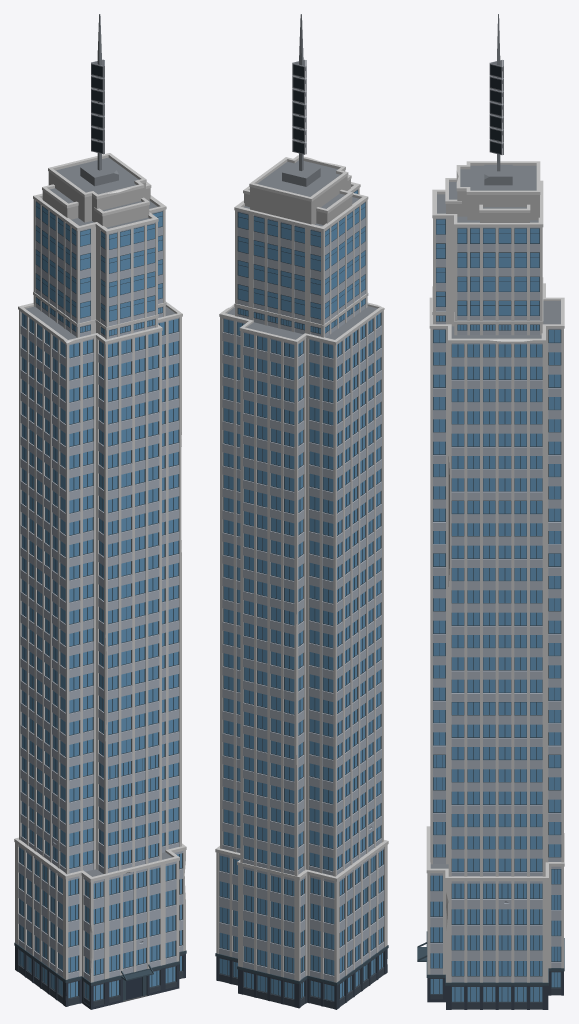
Rendered from SM_Buildings_Skyscraper_04.fbx.
3 views of the same model, side by side, from view 1: azimuth 30°, elevation 25°; view 2: azimuth 150°, elevation 25°; view 3: azimuth 270°, elevation 25° (orthographic).
Visible parts, largest first — view 1: SM_Buildings_Skyscraper_04; view 2: SM_Buildings_Skyscraper_04; view 3: SM_Buildings_Skyscraper_04.
Part boxes in pixels (bbox=[...]): SM_Buildings_Skyscraper_04: bbox=[14, 14, 186, 1009]; SM_Buildings_Skyscraper_04: bbox=[215, 14, 388, 1009]; SM_Buildings_Skyscraper_04: bbox=[417, 14, 564, 1009].
Bounding box in the file's own units: 14.84 × 112 × 15.53.
